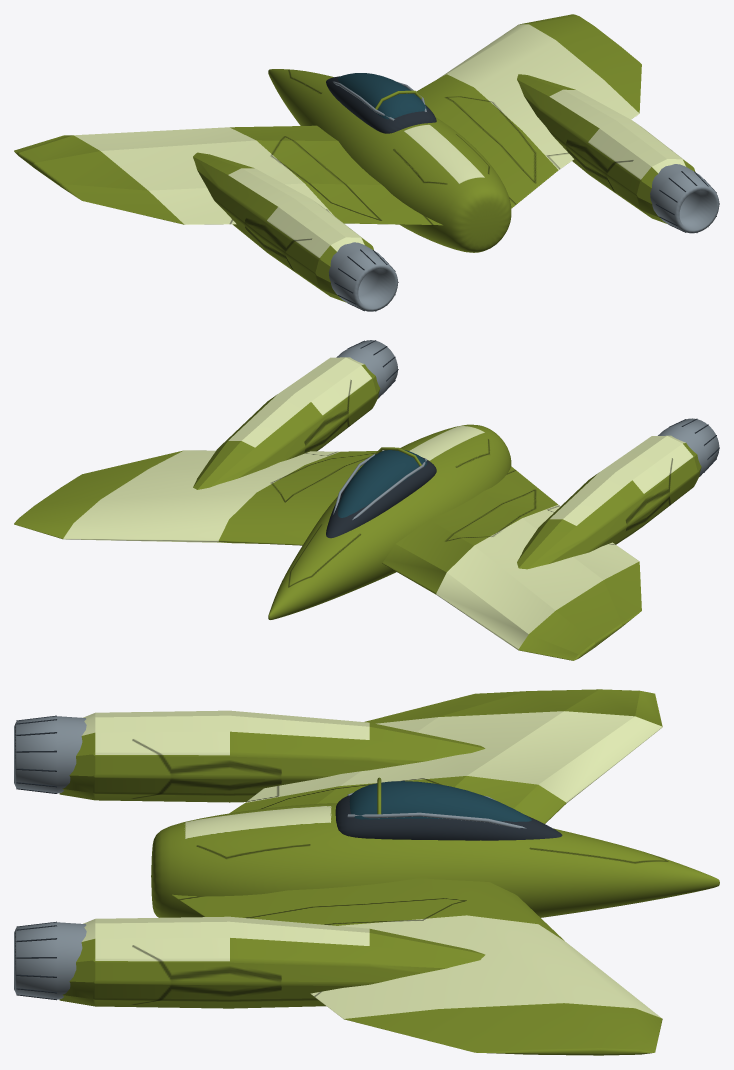
The picture shows the model from 3 angles, top to bottom: view 1: azimuth 30°, elevation 25°; view 2: azimuth 150°, elevation 25°; view 3: azimuth 270°, elevation 25°; orthographic projection. The views are drawn at different scales.
Parts seen in each view (by area): view 1: MintSkaterV2; view 2: MintSkaterV2; view 3: MintSkaterV2.
Part boxes in pixels (bbox=[...]): MintSkaterV2: bbox=[14, 14, 719, 311]; MintSkaterV2: bbox=[14, 340, 719, 660]; MintSkaterV2: bbox=[14, 689, 719, 1055].
Size of the model in its own units: 3.36 by 0.6313 by 2.78.
6 materials, 2 textured.
